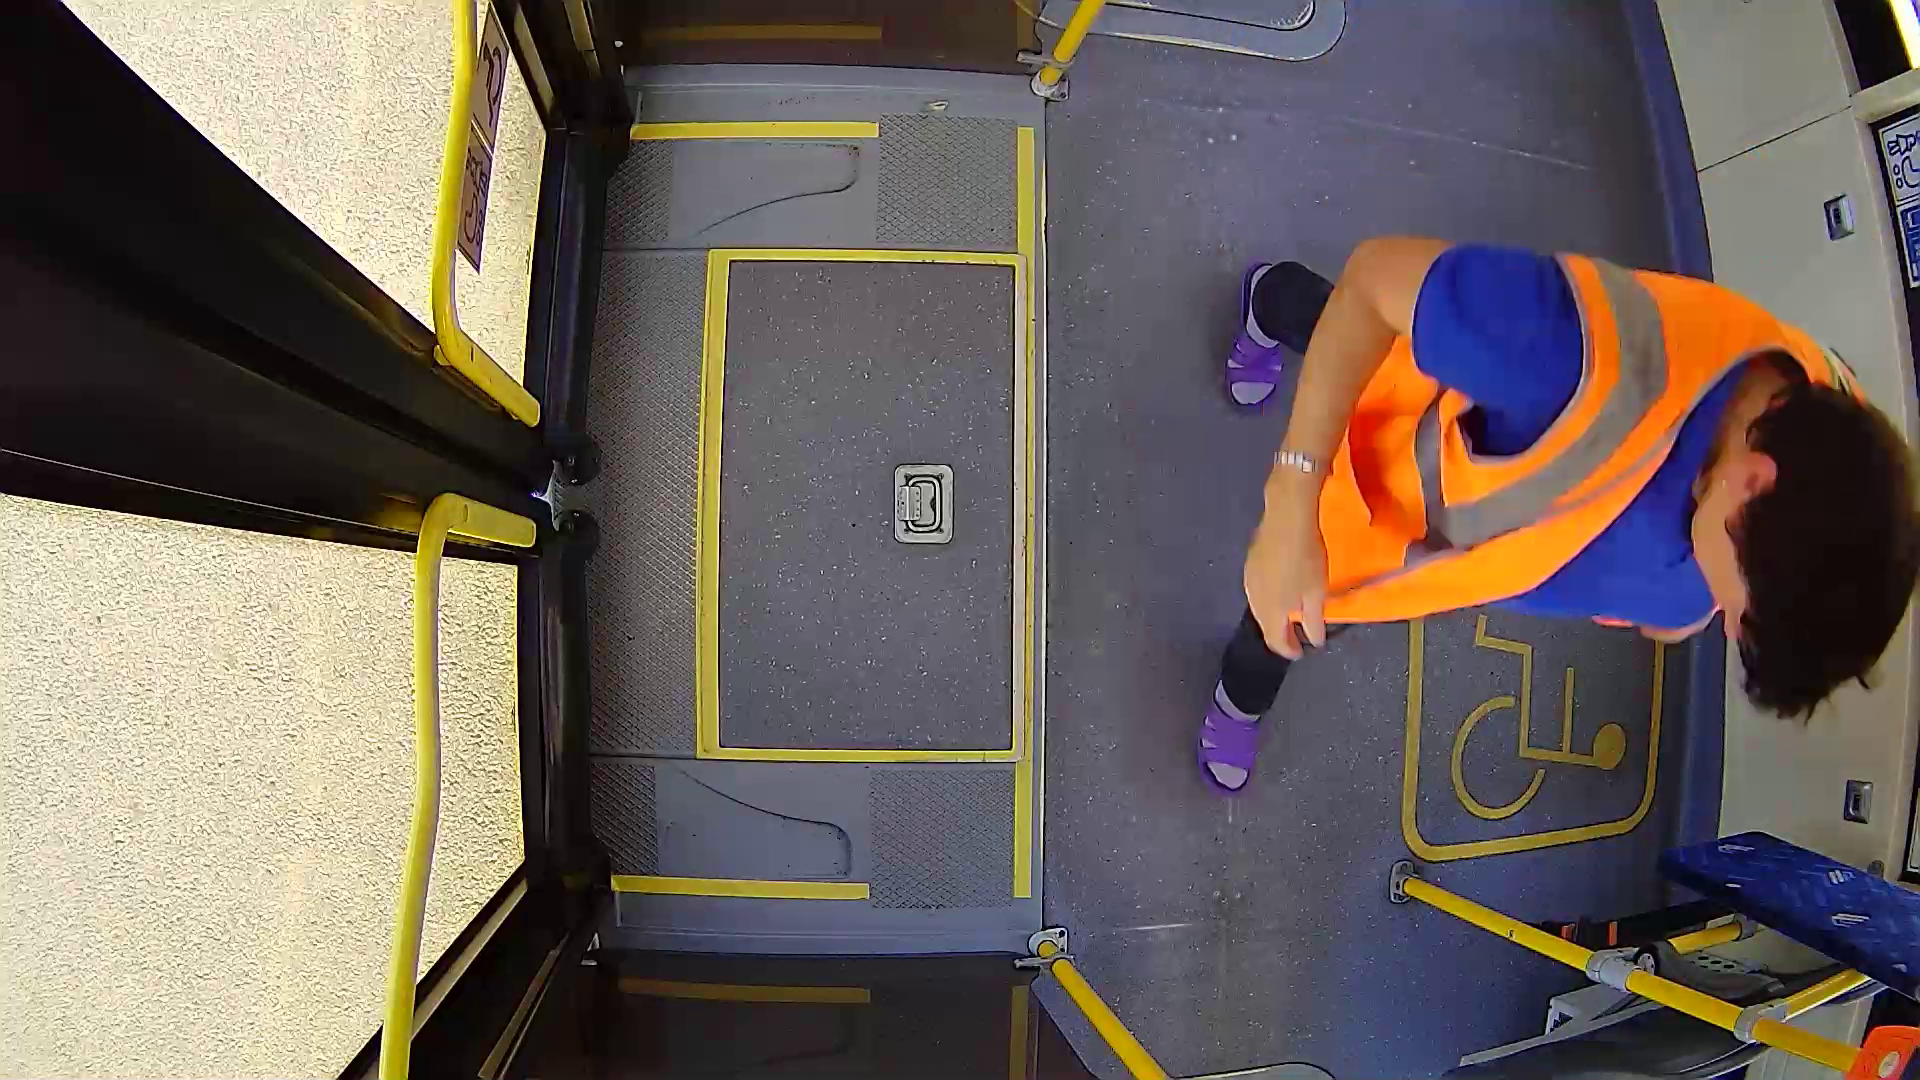person: (1233, 224, 1871, 778)
